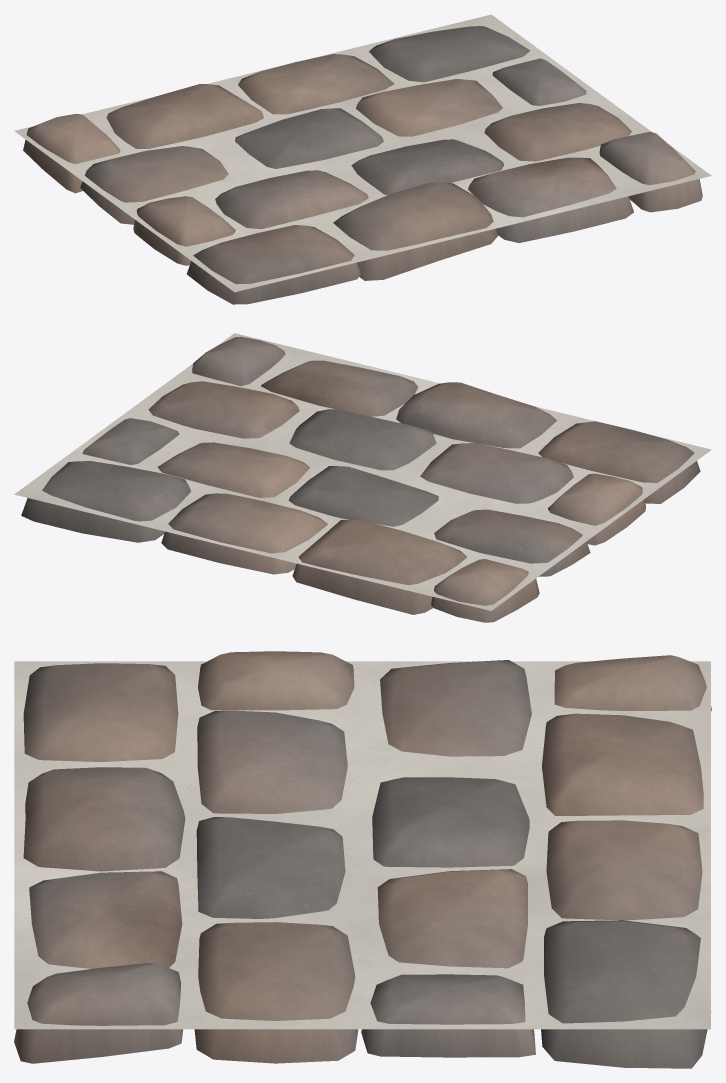
Rendered from cobble_lane_1.glb.
3 views of the same model, one above another, from view 1: azimuth 30°, elevation 25°; view 2: azimuth 150°, elevation 25°; view 3: azimuth 270°, elevation 25° (orthographic). The views are drawn at different scales.
Visible parts, largest first — view 1: model; view 2: model; view 3: model.
Part boxes in pixels (x1,y1,x2,y2): model: (14,14,711,304); model: (14,333,711,622); model: (14,651,711,1068).
Size of the model in its own units: 1.01 by 0.0881 by 0.8014.
2 materials, 2 textured.
